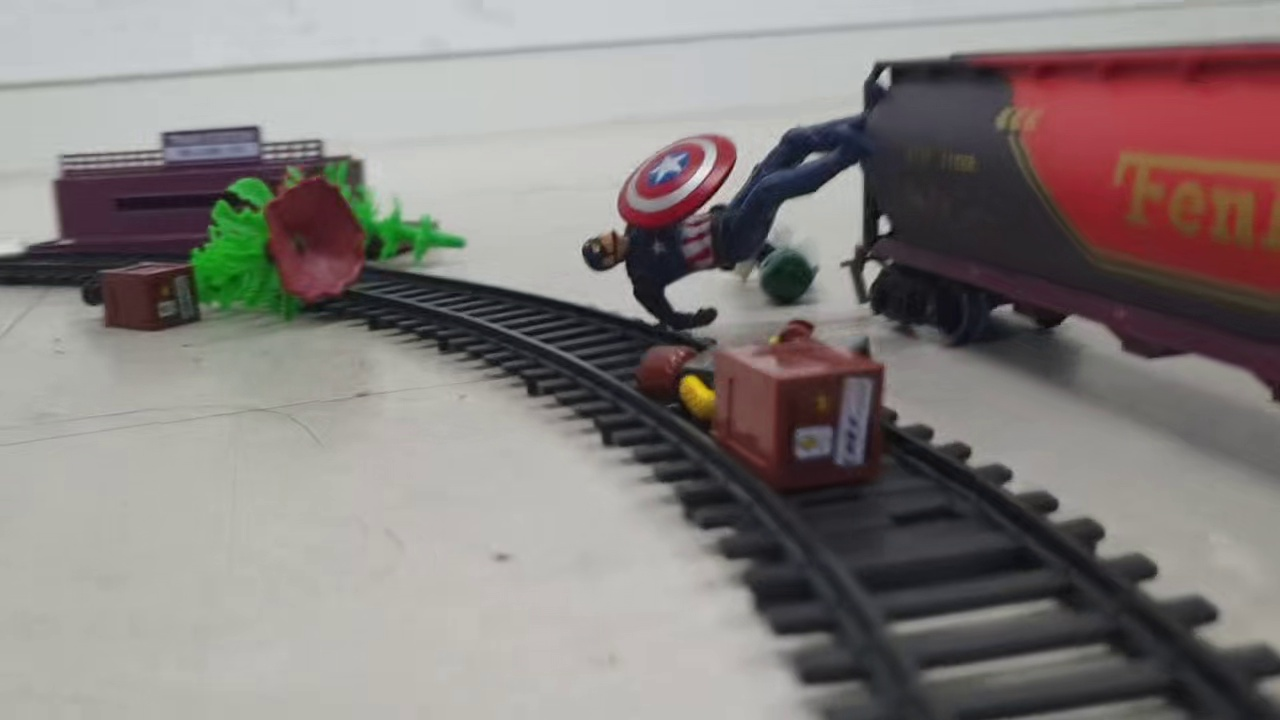box: (711, 336, 886, 492), (99, 261, 205, 332)
people: (581, 112, 866, 331), (718, 229, 825, 303), (637, 331, 716, 421)
tree: (187, 177, 369, 320), (279, 158, 467, 268)
